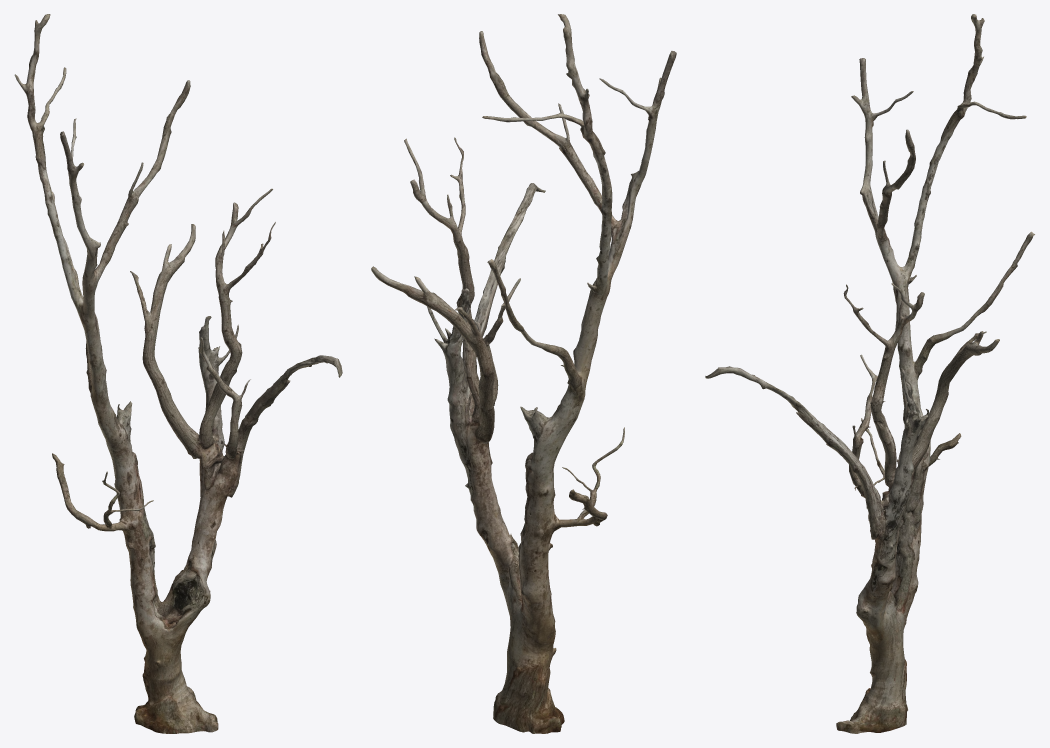
The model's file is tree1.glb.
3 views of the same model, side by side, from view 1: azimuth 30°, elevation 25°; view 2: azimuth 150°, elevation 25°; view 3: azimuth 270°, elevation 25° (orthographic). The views are drawn at different scales.
Parts seen in each view (by area): view 1: qlEtl_LOD0_TIER2_000_MatID_1_0; view 2: qlEtl_LOD0_TIER2_000_MatID_1_0; view 3: qlEtl_LOD0_TIER2_000_MatID_1_0.
Boxes of the visible parts, box(x1,y1,x2,y2) form: qlEtl_LOD0_TIER2_000_MatID_1_0: box(14, 14, 342, 733); qlEtl_LOD0_TIER2_000_MatID_1_0: box(371, 14, 676, 733); qlEtl_LOD0_TIER2_000_MatID_1_0: box(705, 14, 1034, 733).
Bounding box in the file's own units: 2.15 × 6.21 × 2.77.
1 material, 1 textured.
